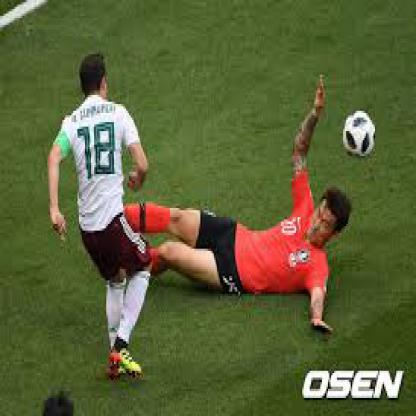Fall_Down: (99, 70, 351, 336)
